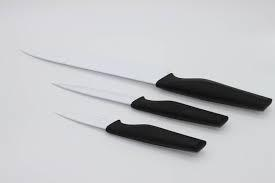Knife: (19, 47, 272, 111), (51, 79, 228, 127), (55, 111, 206, 152)
